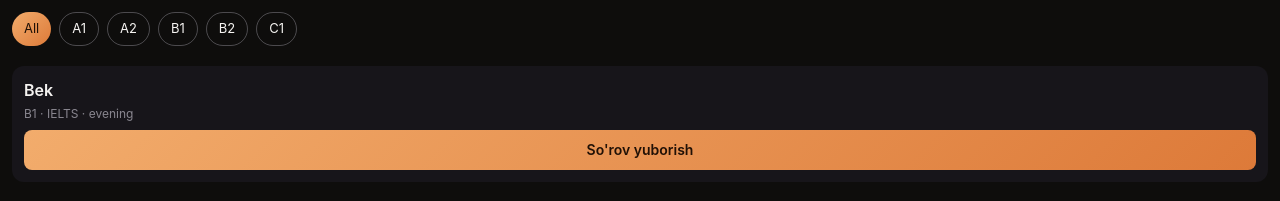
Test: PartnersScreen › sends a match request and marks the card
Expected: the text "Bek" is shown, x1=24 y1=80 x2=53 y2=100
Click the button "So'rov yuborish" at (640, 150), box x1=24 y1=130 x2=1256 y2=170
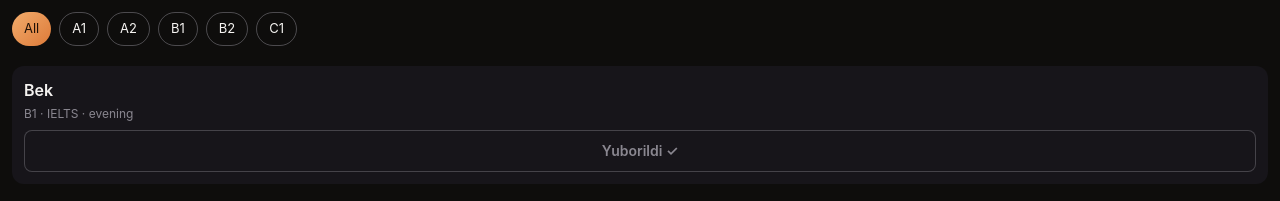
Expected: the button "Yuborildi ✓" is shown, x1=24 y1=130 x2=1256 y2=172
